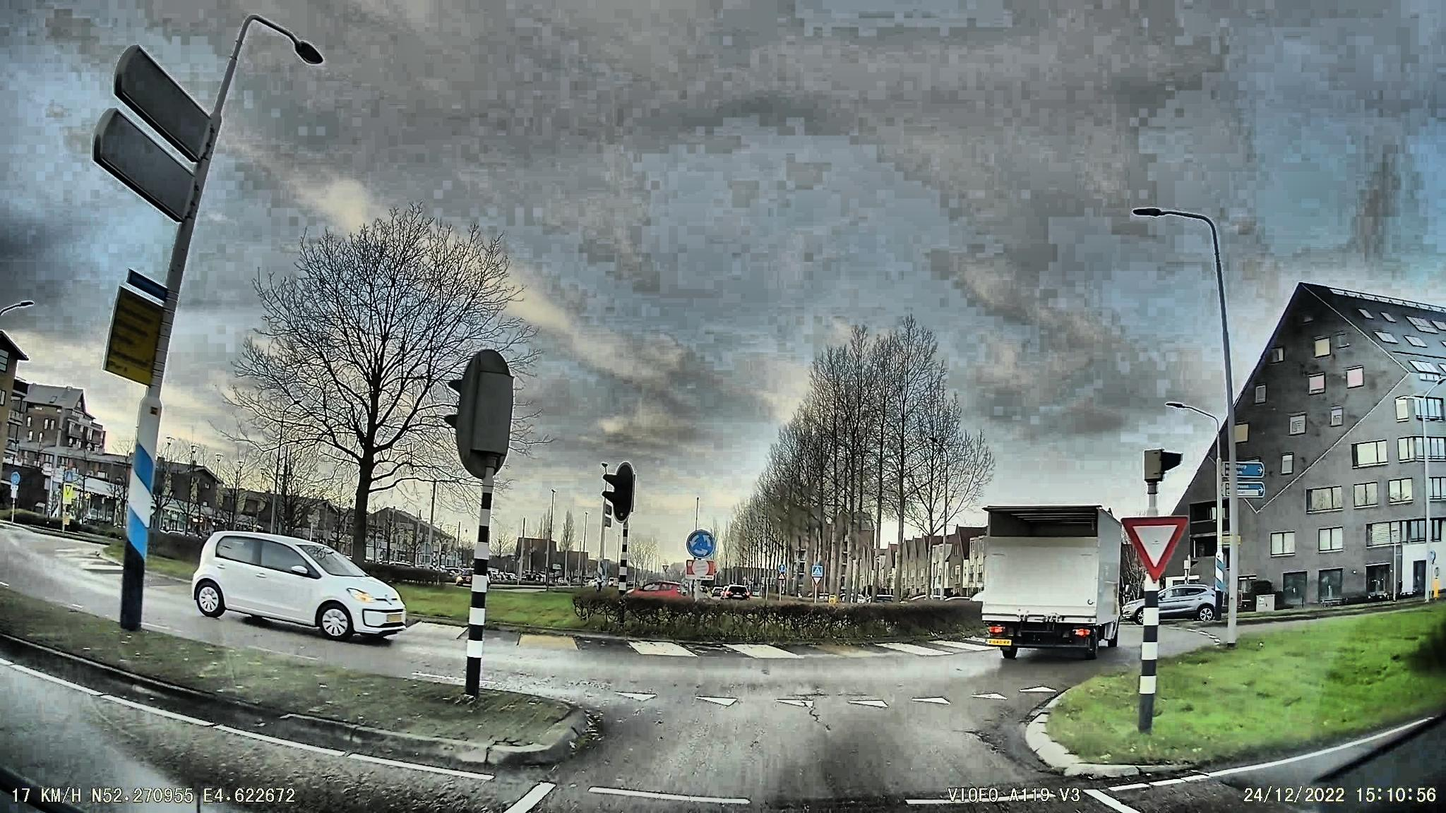Roads: (0, 522, 1155, 813)
